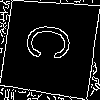C: (24, 22, 82, 63)
